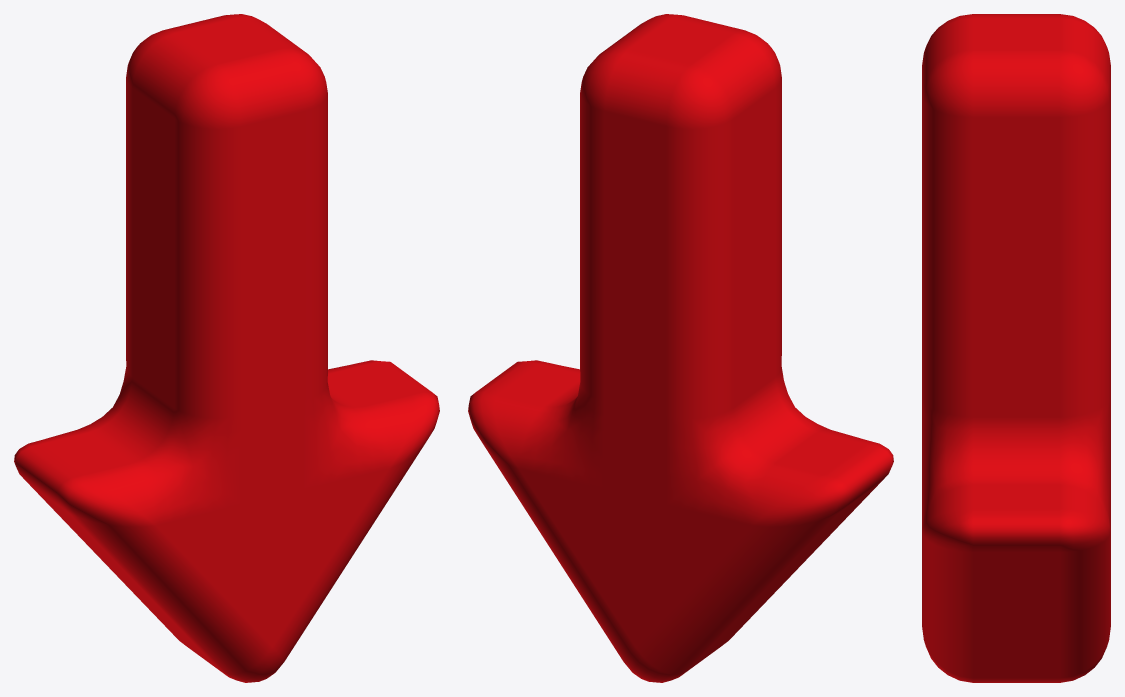
File: ArrowModel.fbx
3 renders of one model, left to right at view 1: azimuth 30°, elevation 25°; view 2: azimuth 150°, elevation 25°; view 3: azimuth 270°, elevation 25°, orthographic. The views are drawn at different scales.
Visible parts, largest first — view 1: Vert; view 2: Vert; view 3: Vert.
Boxes of the visible parts, x1=… form: Vert: x1=14, y1=14, x2=439, y2=682; Vert: x1=468, y1=14, x2=893, y2=682; Vert: x1=922, y1=14, x2=1110, y2=682.
Bounding box in the file's own units: 4.83 × 2 × 7.55.
